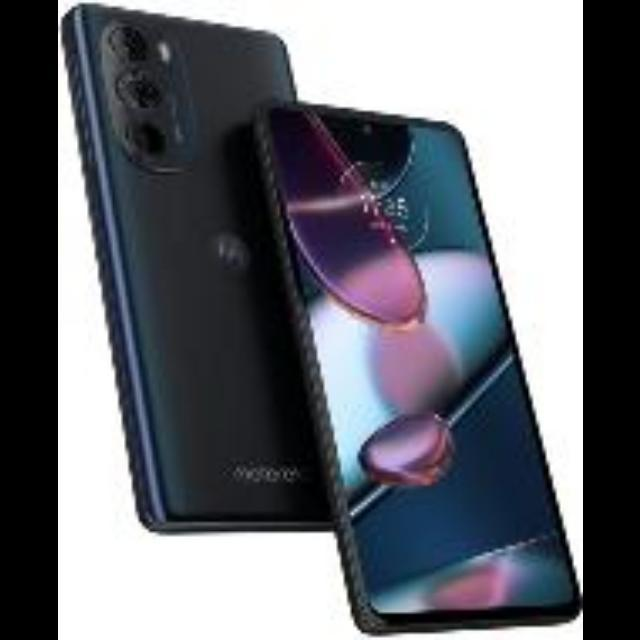Phone: (261, 101, 581, 633), (59, 6, 338, 532)
